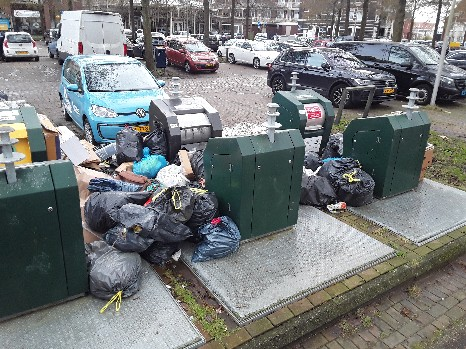Container: (211, 123, 310, 238), (0, 160, 78, 304), (359, 117, 419, 173), (284, 93, 348, 131), (158, 94, 212, 136), (7, 95, 38, 146)
Rest: (187, 219, 257, 287), (80, 228, 132, 287), (318, 154, 373, 204), (75, 137, 131, 186), (112, 195, 160, 243), (88, 180, 134, 230), (155, 187, 205, 229), (143, 209, 179, 256), (131, 157, 173, 194), (181, 144, 213, 174), (147, 121, 169, 153), (307, 135, 342, 153), (126, 133, 146, 149), (181, 140, 199, 154)
Voertuig: (46, 37, 161, 132), (45, 1, 120, 64), (356, 32, 438, 82), (300, 43, 372, 94), (8, 25, 77, 77), (158, 34, 220, 81), (242, 29, 280, 71)
